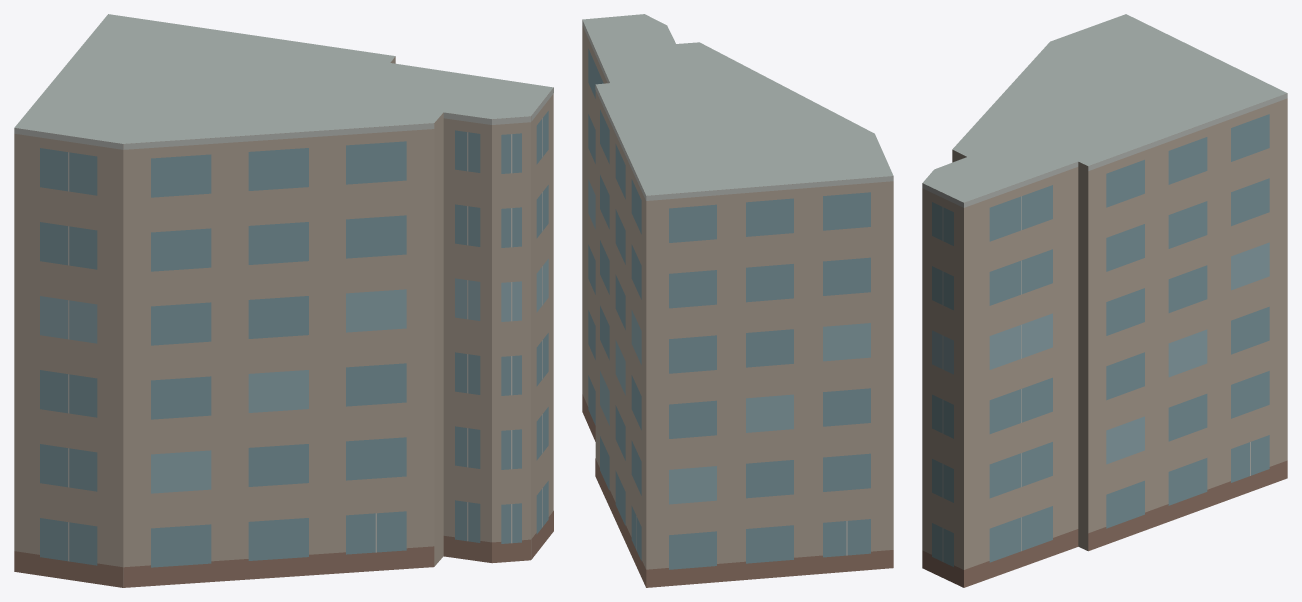
Rendered from survey-upis-32627152.glb.
The picture shows the model from 3 angles, left to right: view 1: azimuth 30°, elevation 25°; view 2: azimuth 150°, elevation 25°; view 3: azimuth 270°, elevation 25°; orthographic projection. The views are drawn at different scales.
Parts seen in each view (by area): view 1: survey-upis-32627152.tmp; view 2: survey-upis-32627152.tmp; view 3: survey-upis-32627152.tmp.
Part boxes in pixels (<box>): survey-upis-32627152.tmp: <box>14,14,553,587</box>; survey-upis-32627152.tmp: <box>582,14,893,587</box>; survey-upis-32627152.tmp: <box>922,14,1287,587</box>.
Size of the model in its own units: 19.25 by 18.3 by 15.74.
